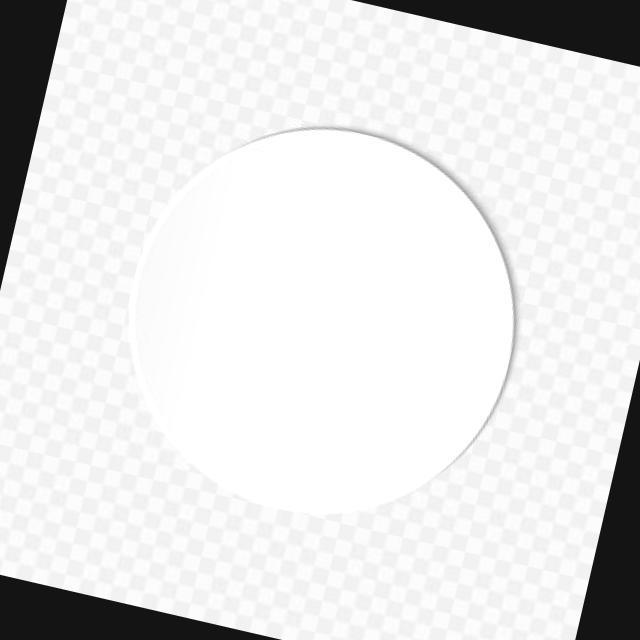Circle: (121, 118, 522, 522)
